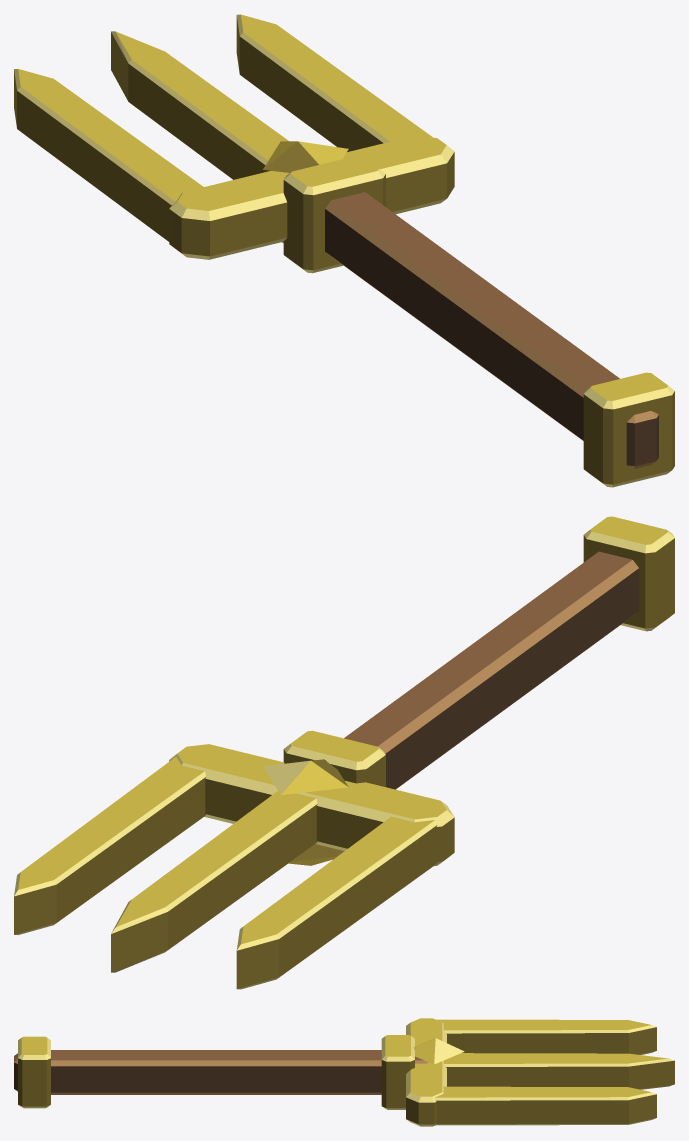
File: gold_pitchfork.fbx
The picture shows the model from 3 angles, top to bottom: view 1: azimuth 30°, elevation 25°; view 2: azimuth 150°, elevation 25°; view 3: azimuth 270°, elevation 25°; orthographic projection. The views are drawn at different scales.
Parts seen in each view (by area): view 1: gold_pitchfork; view 2: gold_pitchfork; view 3: gold_pitchfork.
Part boxes in pixels (x1,y1,x2,y2): gold_pitchfork: (14,14,674,487); gold_pitchfork: (14,516,674,989); gold_pitchfork: (14,1018,674,1126).
Bounding box in the file's own units: 0.76 × 0.28 × 2.58.
Materials: 1 (1 with a texture image).
